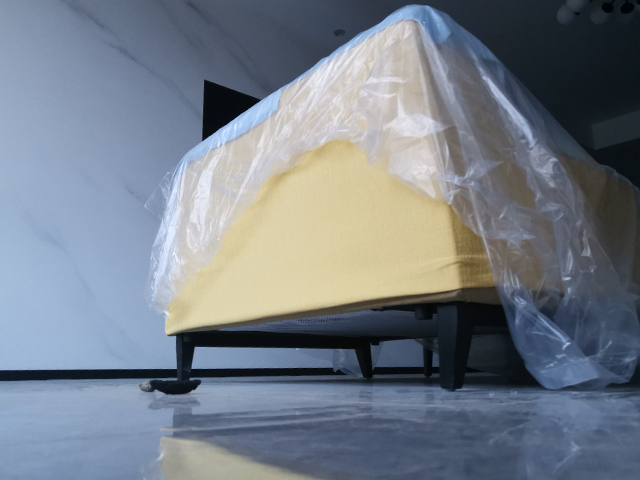feces: (137, 378, 205, 396)
sofa: (161, 5, 640, 393)
